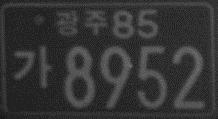2: (173, 44, 205, 110)
5: (136, 44, 169, 109), (136, 8, 158, 40)
8: (62, 45, 94, 109), (112, 9, 134, 40)
9: (99, 45, 132, 111)
가: (12, 44, 54, 91)
광주_O: (56, 9, 107, 38)
